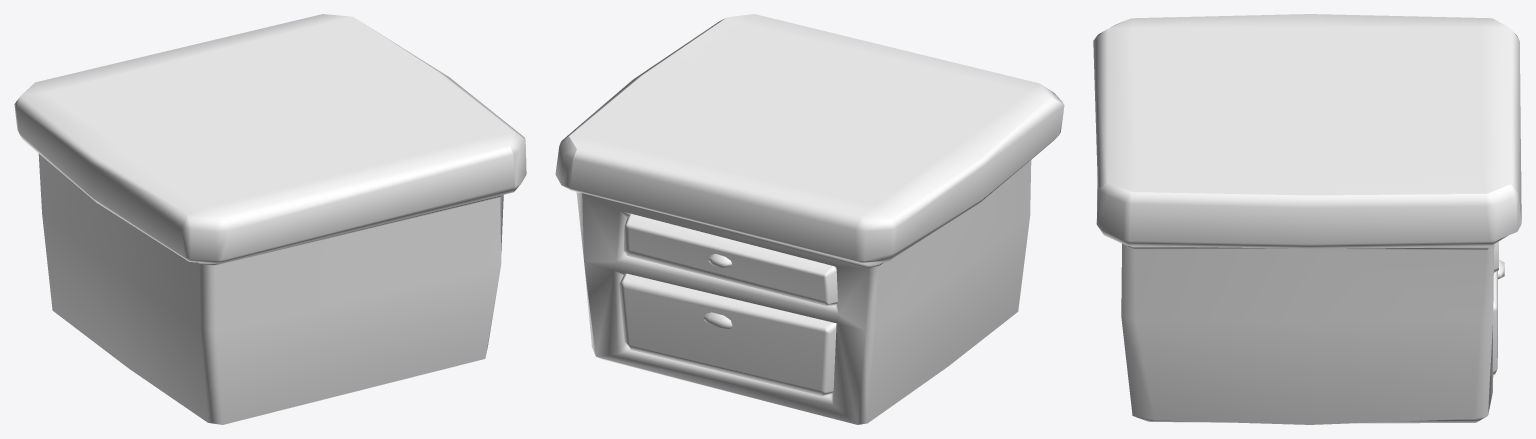
Rendered from P_StoneKitchenDrawers.glb.
3 views of the same model, side by side, from view 1: azimuth 30°, elevation 25°; view 2: azimuth 150°, elevation 25°; view 3: azimuth 270°, elevation 25° (orthographic). The views are drawn at different scales.
Parts seen in each view (by area): view 1: P_StoneKitchenDrawers; view 2: P_StoneKitchenDrawers; view 3: P_StoneKitchenDrawers.
Boxes of the visible parts, box(x1,y1,x2,y2) form: P_StoneKitchenDrawers: box(14, 14, 526, 424); P_StoneKitchenDrawers: box(555, 14, 1064, 424); P_StoneKitchenDrawers: box(1093, 14, 1521, 424).
Size of the model in its own units: 1.04 by 0.6238 by 0.9806.
Materials: 1 (1 with a texture image).
